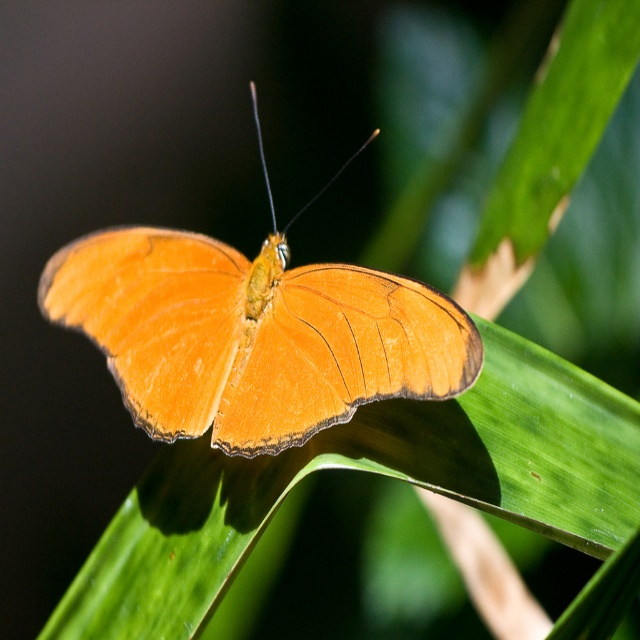Butterfly: (37, 80, 484, 457)
